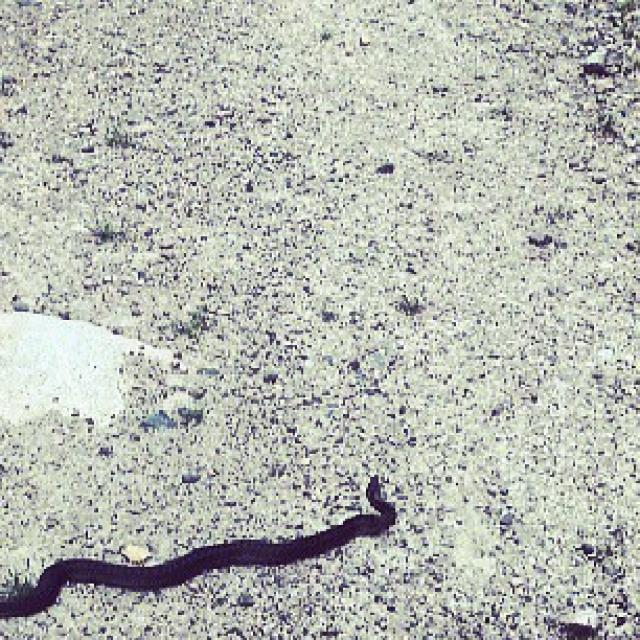Snake: (0, 472, 397, 619)
